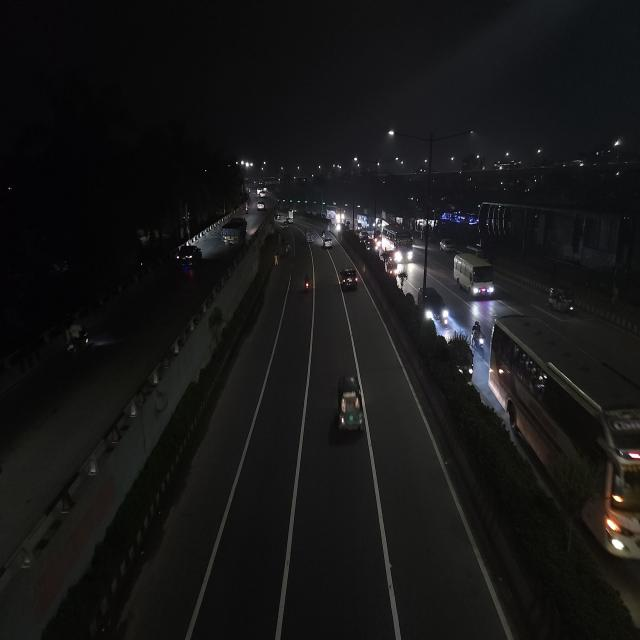bus: (490, 311, 640, 573), (452, 249, 496, 301), (384, 225, 414, 263), (362, 214, 374, 232)
car: (417, 284, 451, 329), (174, 242, 203, 279), (339, 264, 360, 291), (382, 253, 398, 277), (320, 231, 334, 248), (256, 202, 266, 214)
cng: (328, 373, 367, 439), (546, 285, 578, 316)
motorcycle: (62, 320, 93, 363), (469, 318, 487, 358), (301, 271, 312, 295), (242, 200, 250, 214)
pedestrian: (272, 250, 280, 268)
truck: (452, 248, 497, 301), (220, 216, 248, 249), (306, 228, 314, 245)
